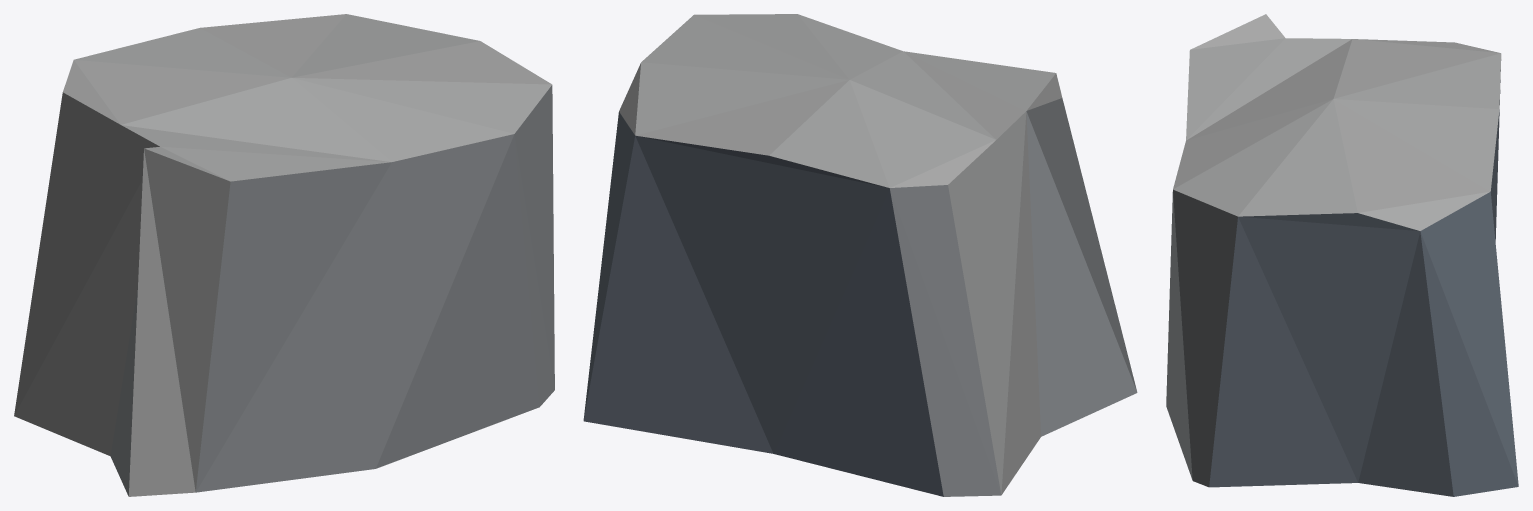
File: rock_low.glb
3 renders of one model, left to right at view 1: azimuth 30°, elevation 25°; view 2: azimuth 150°, elevation 25°; view 3: azimuth 270°, elevation 25°, orthographic. The views are drawn at different scales.
Parts seen in each view (by area): view 1: rock_low; view 2: rock_low; view 3: rock_low.
Part boxes in pixels (x1=…): rock_low: x1=14, y1=14, x2=554, y2=496; rock_low: x1=583, y1=14, x2=1137, y2=496; rock_low: x1=1166, y1=14, x2=1518, y2=496.
Bounding box in the file's own units: 1.59 × 1.14 × 1.16.
